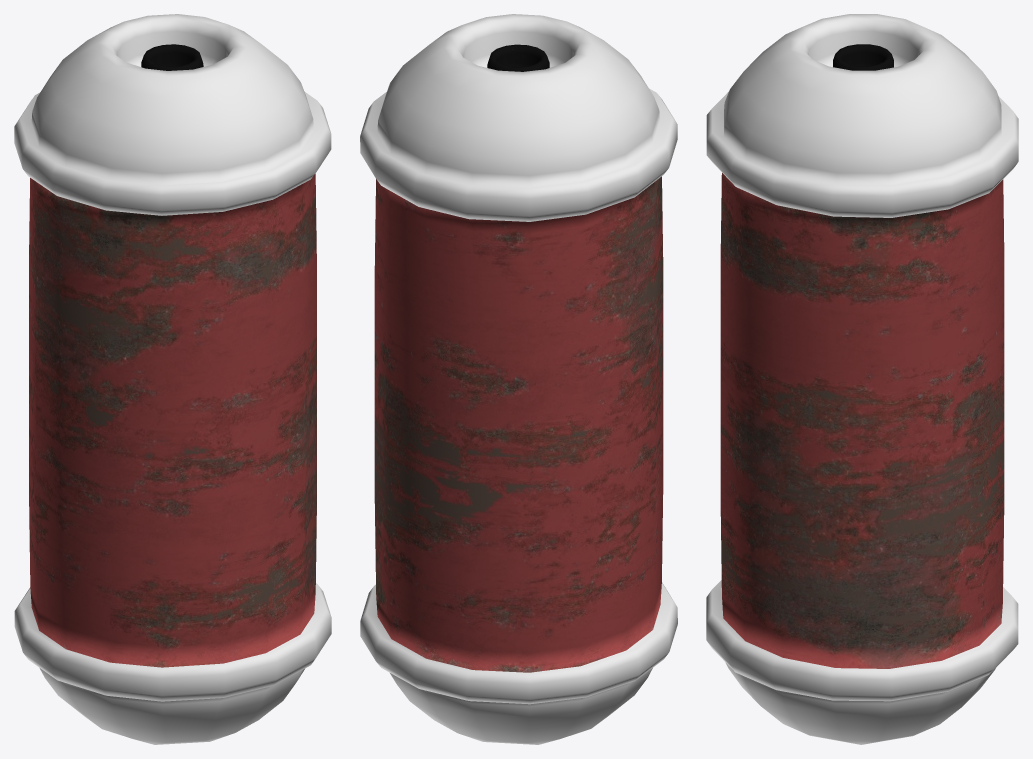
File: InfFuel.fbx
The picture shows the model from 3 angles, left to right: view 1: azimuth 30°, elevation 25°; view 2: azimuth 150°, elevation 25°; view 3: azimuth 270°, elevation 25°; orthographic projection.
Parts seen in each view (by area): view 1: InfFuel; view 2: InfFuel; view 3: InfFuel.
Boxes of the visible parts, x1,y1,x2,y2 form: InfFuel: (14,14,331,744); InfFuel: (360,14,677,744); InfFuel: (706,14,1018,744).
Bounding box in the file's own units: 0.1856 × 0.4394 × 0.1859.
